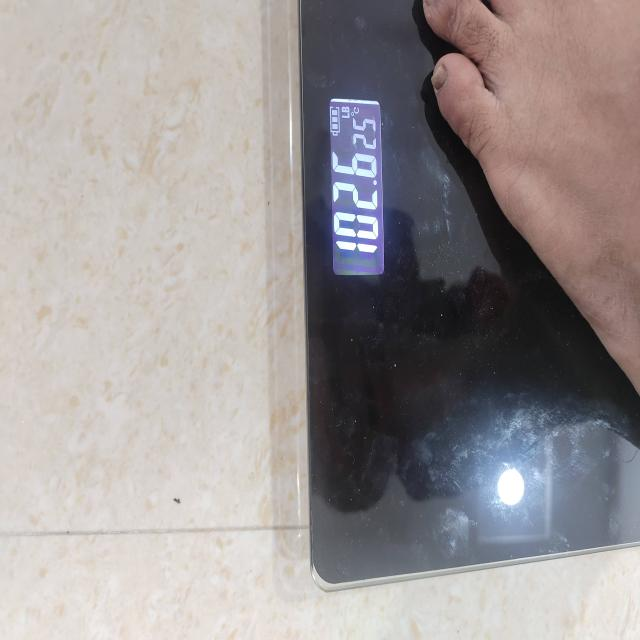ws: (297, 0, 438, 379)
